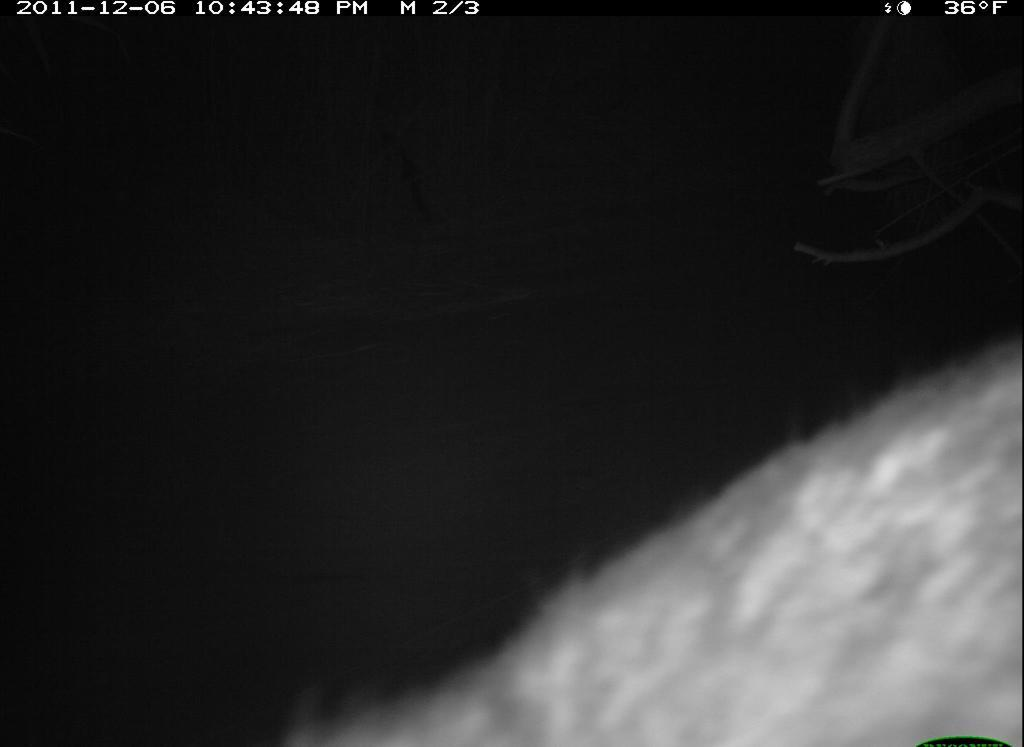raccoon: (285, 313, 1018, 745)
